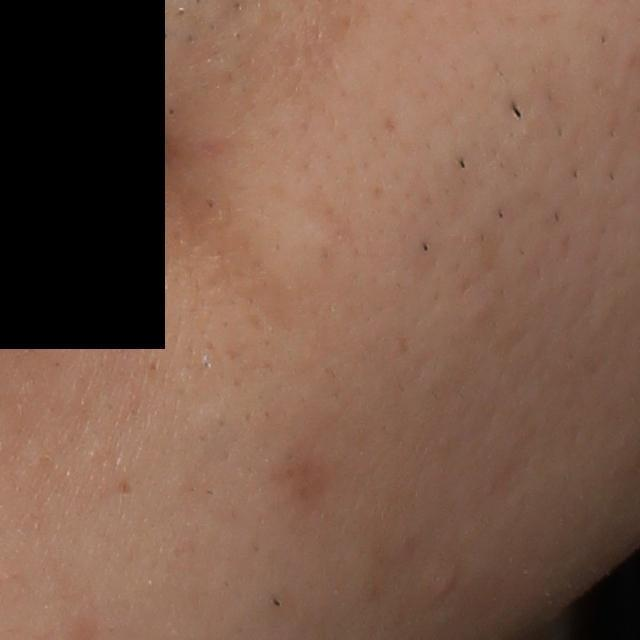papule: (436, 576, 458, 596)
